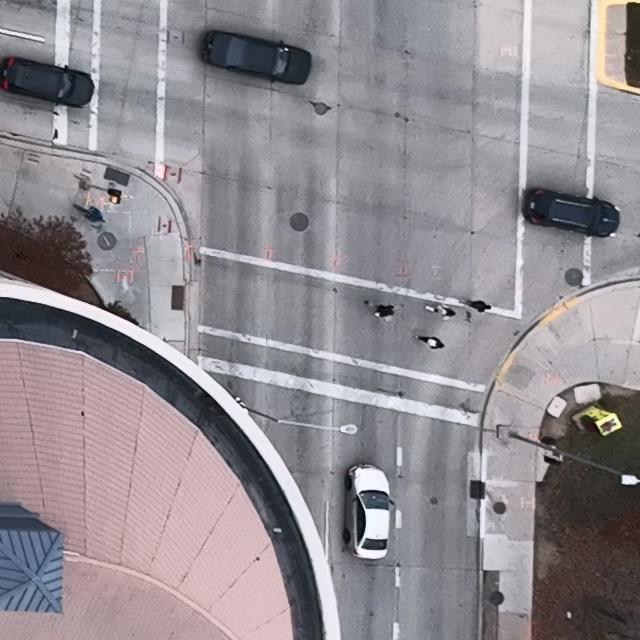car: (199, 30, 312, 85), (343, 463, 395, 561), (522, 187, 621, 238), (0, 56, 95, 109)
